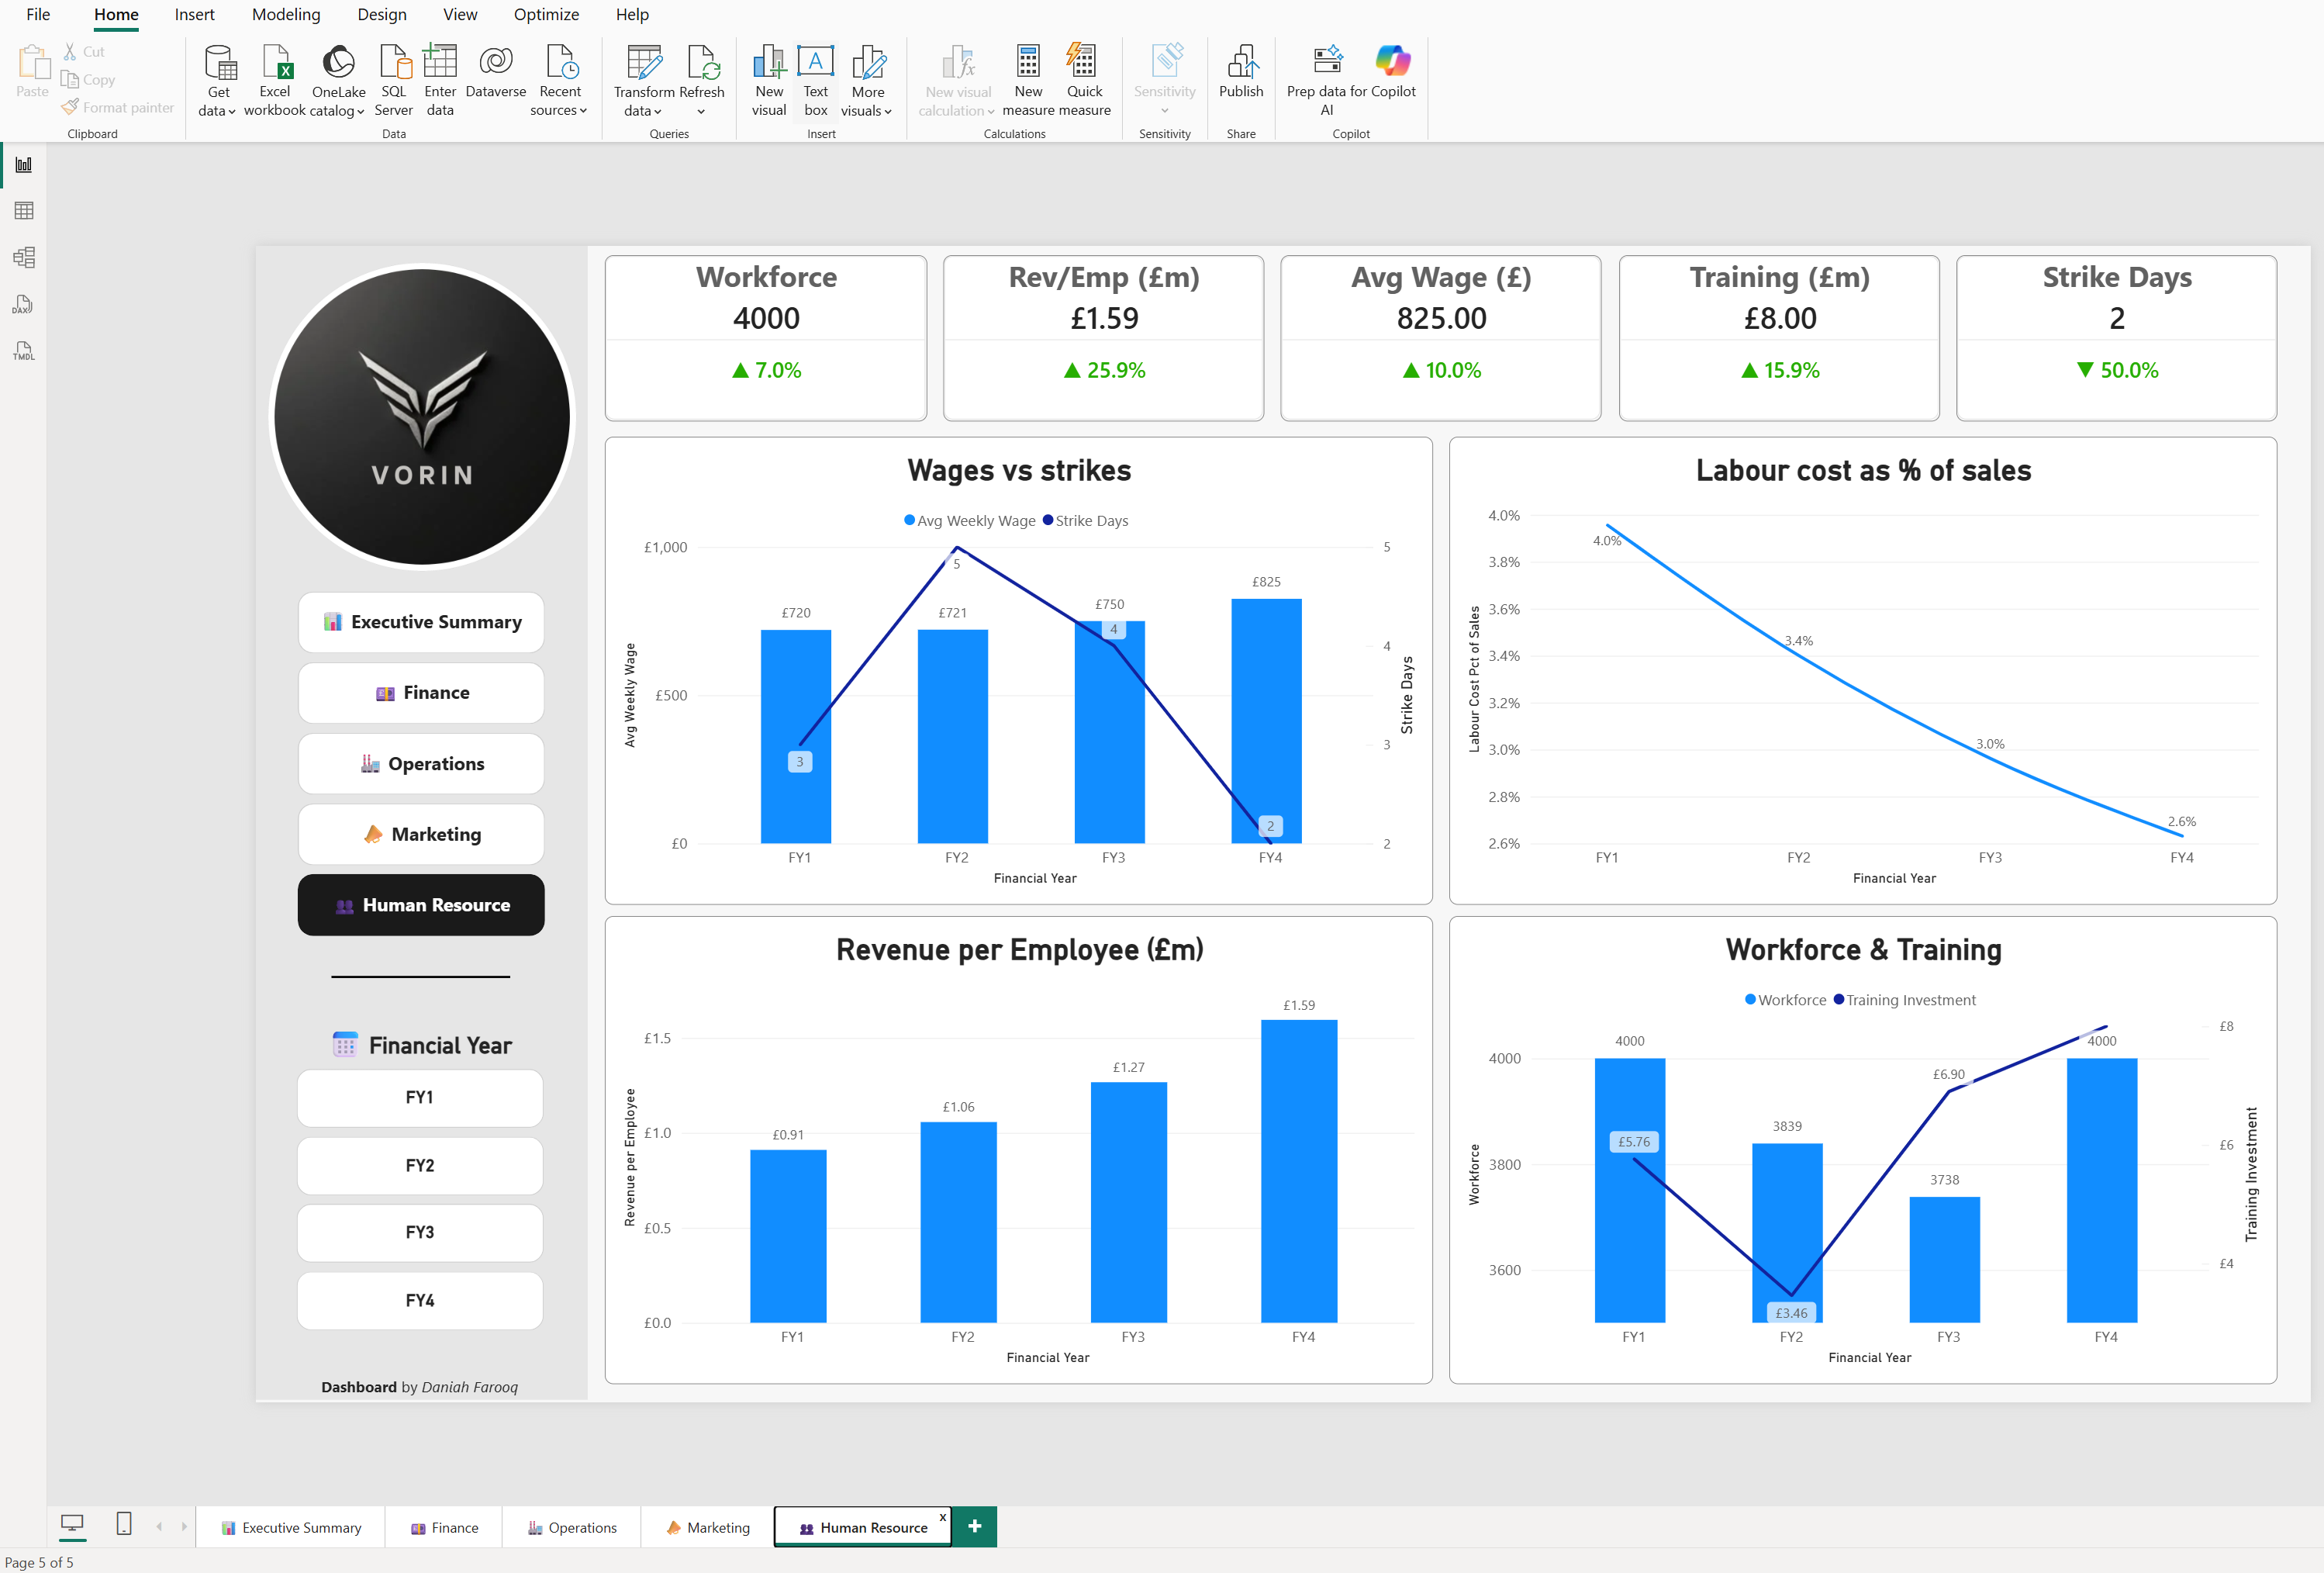

What the dashboard file says about the page in this screenshot:
{"tool":"powerbi","page":{"name":"👥 Human Resource","canvas":[1920,1080],"ordinal":4},"visuals":[{"type":"shape","box":[0,0,310.2,1077.9],"z":0},{"type":"image","box":[5.4,9.5,300,300],"z":1000},{"type":"pageNavigator","box":[38.8,322.6,231.1,322.6],"z":2000},{"type":"advancedSlicerVisual","title":"📅 Financial Year","fields":{"Values":["Rounds.RoundLabel"]},"box":[38,728,231.1,286.9],"z":3000},{"type":"cardVisual","fields":{"Data":["_Measures.Workforce (Latest)"]},"box":[326,8.7,301,155],"z":4000},{"type":"cardVisual","fields":{"Data":["_Measures.Rev Per Employee (Latest)"]},"box":[642.6,8.3,300,155.6],"z":5000},{"type":"cardVisual","fields":{"Data":["_Measures.Strike Days (Latest)"]},"box":[1589.1,8.7,300,155],"z":6000},{"type":"cardVisual","fields":{"Data":["_Measures.Training (Latest)"]},"box":[1273.6,8.5,300,155.4],"z":7000},{"type":"cardVisual","fields":{"Data":["_Measures.Avg Wage (Latest)"]},"box":[958.1,8.7,300,155],"z":8000},{"type":"lineClusteredColumnComboChart","title":"Wages vs strikes","fields":{"Category":["Rounds.Financial Year"],"Y":["_Measures.Avg Weekly Wage"],"Y2":["_Measures.Strike Days"]},"box":[326.1,178.3,774,437],"z":9000},{"type":"clusteredColumnChart","title":"Revenue per Employee (£m)","fields":{"Category":["Rounds.Financial Year"],"Y":["_Measures.Revenue per Employee"]},"box":[326.1,626.1,774,437],"z":10000},{"type":"lineChart","title":"Labour cost as % of sales","fields":{"Category":["Rounds.Financial Year"],"Y":["_Measures.Labour Cost Pct of Sales"]},"box":[1115.2,178.3,774,437],"z":11000},{"type":"lineClusteredColumnComboChart","title":"Workforce & Training","fields":{"Category":["Rounds.Financial Year"],"Y":["_Measures.Workforce"],"Y2":["_Measures.Training Investment"]},"box":[1115.2,626.1,774,437],"z":12000},{"type":"textbox","box":[58,1055,191,25],"z":13000},{"type":"shape","box":[71,581,167,203],"z":14000}]}

Visuals, with their boxes on the page's 1920x1080 design canvas (x1, y1, x2, y2). These are canvas units, not pixel positions in the 2324x1573 screenshot, which may show the page scaled, cropped or inside an application window:
shape: left=0, top=0, right=310, bottom=1078
image: left=5, top=10, right=305, bottom=310
pageNavigator: left=39, top=323, right=270, bottom=645
"📅 Financial Year" advancedSlicerVisual: left=38, top=728, right=269, bottom=1015
cardVisual - _Measures.Workforce (Latest): left=326, top=9, right=627, bottom=164
cardVisual - _Measures.Rev Per Employee (Latest): left=643, top=8, right=943, bottom=164
cardVisual - _Measures.Strike Days (Latest): left=1589, top=9, right=1889, bottom=164
cardVisual - _Measures.Training (Latest): left=1274, top=8, right=1574, bottom=164
cardVisual - _Measures.Avg Wage (Latest): left=958, top=9, right=1258, bottom=164
"Wages vs strikes" lineClusteredColumnComboChart: left=326, top=178, right=1100, bottom=615
"Revenue per Employee (£m)" clusteredColumnChart: left=326, top=626, right=1100, bottom=1063
"Labour cost as % of sales" lineChart: left=1115, top=178, right=1889, bottom=615
"Workforce & Training" lineClusteredColumnComboChart: left=1115, top=626, right=1889, bottom=1063
textbox: left=58, top=1055, right=249, bottom=1080
shape: left=71, top=581, right=238, bottom=784
